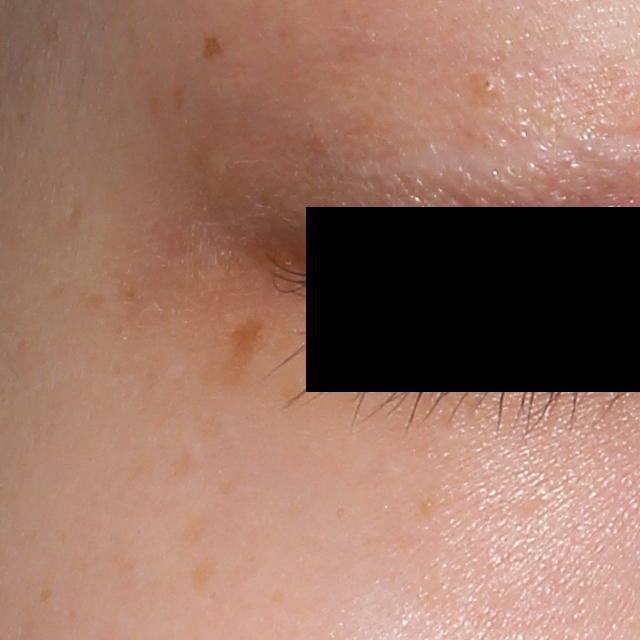comedo: (475, 77, 495, 95)
melasma: (219, 314, 270, 380), (186, 553, 218, 596), (176, 510, 212, 548), (172, 446, 203, 482), (196, 32, 226, 65), (416, 489, 442, 516), (66, 199, 87, 232), (171, 82, 189, 113), (36, 583, 54, 609)
